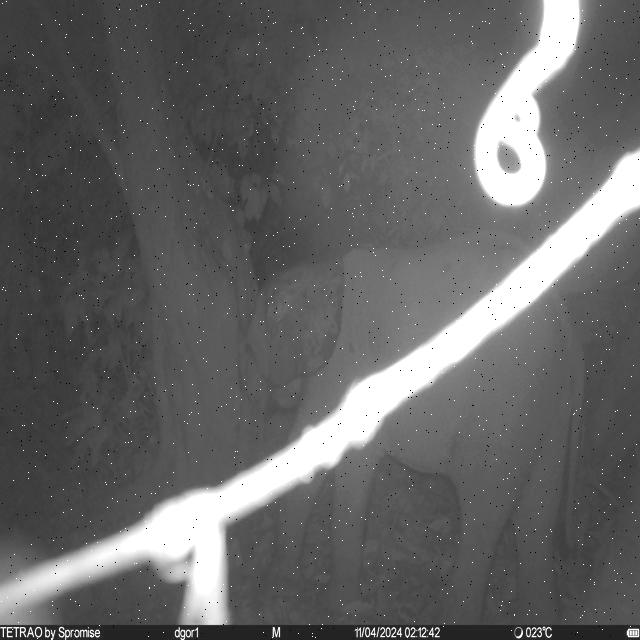calf: (234, 230, 586, 624)
ear: (261, 254, 348, 387)
